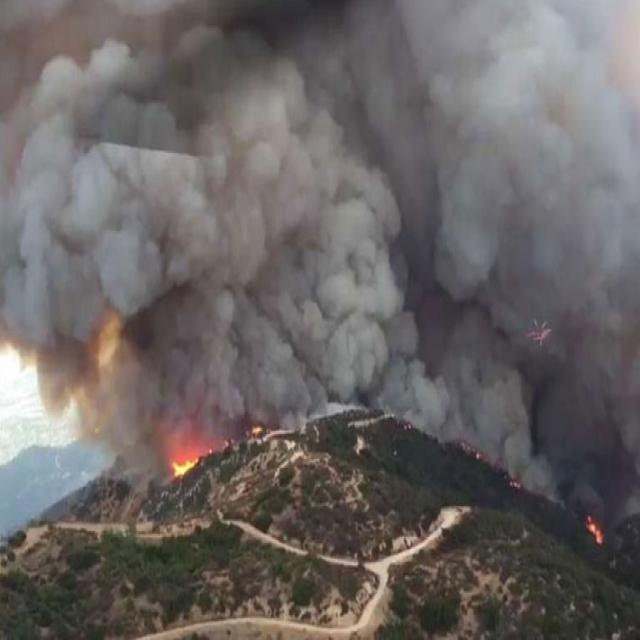smoke: (24, 14, 635, 467)
